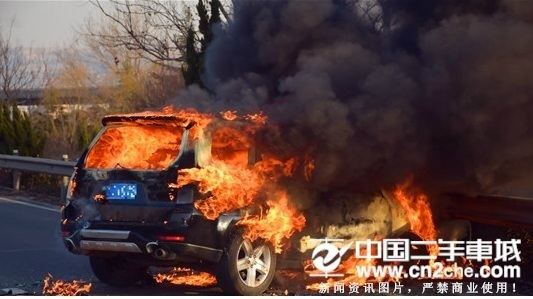fire: (69, 96, 314, 285), (298, 169, 455, 287)
